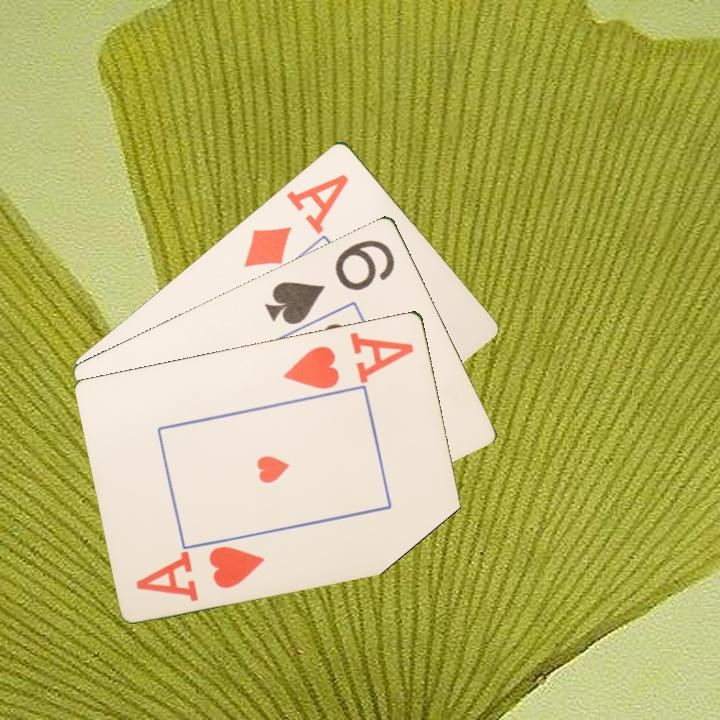6s: (261, 235, 398, 327)
Ad: (240, 169, 352, 270)
Ah: (280, 328, 417, 392), (133, 542, 268, 604)
